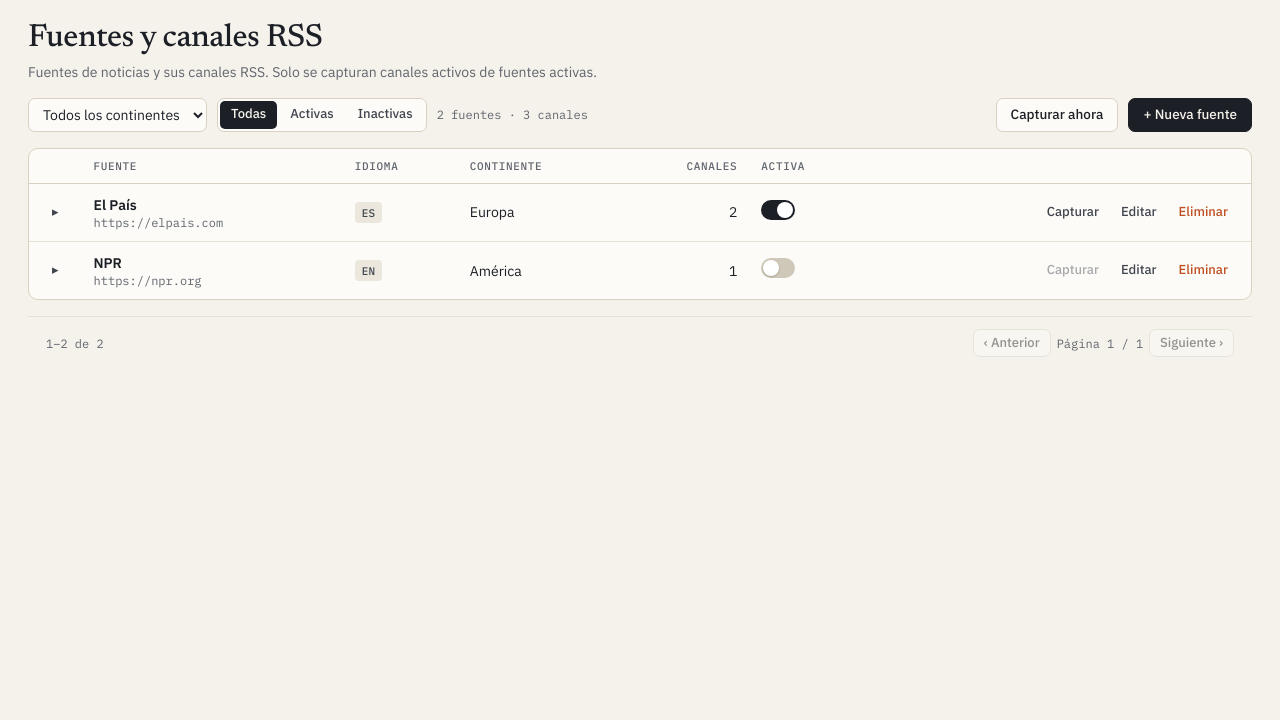
Scenario: SourcesPage › opens delete modal and deactivates channel with DELETE /channels/{id}
Check: the text "El País" is shown, box [94,196,137,214]
Click the button "Eliminar" in the row of "El País". click: [1203, 212]
box: [1168,198,1239,226]
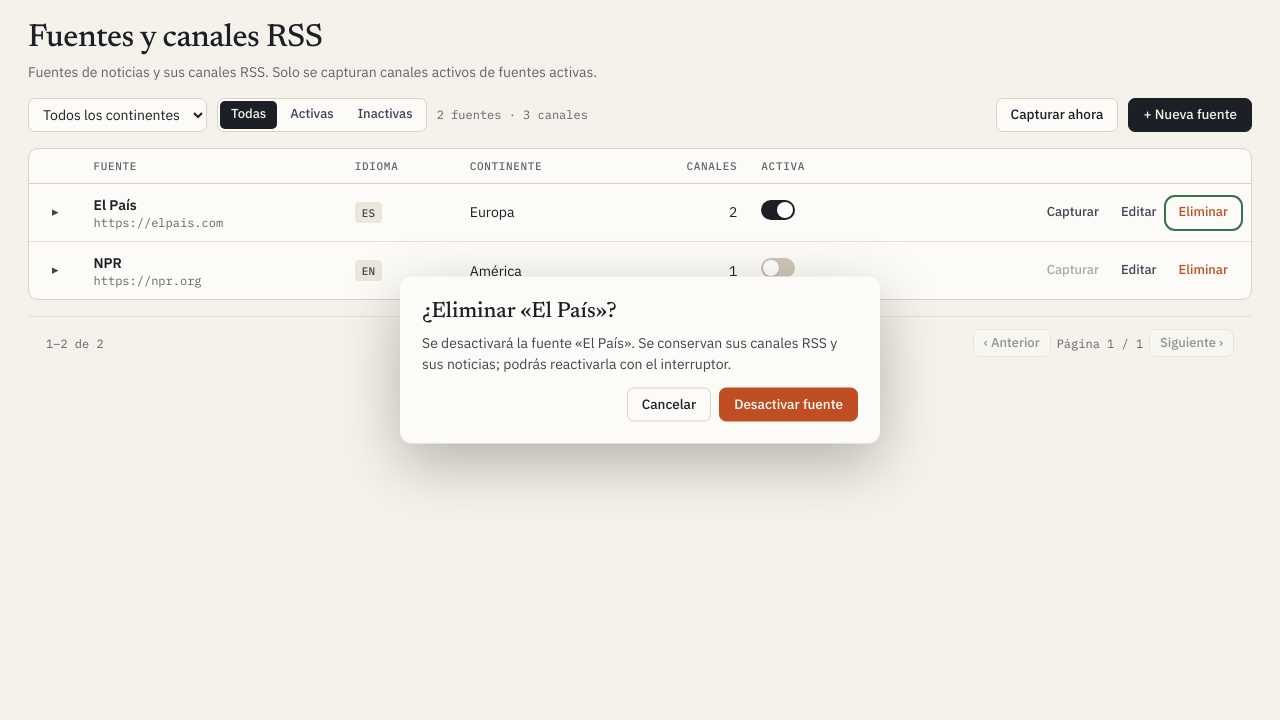
Check: the heading "¿Eliminar «El País»?" is shown, box [422,300,616,322]
Check: the text "Se desactivará la fuente «El País». Se conservan sus canales RSS y sus noticias; podrás reactivarla con el interruptor." is shown, box [422,333,858,374]
Click the button "Desactivar fuente". click: [789, 404]
box: [719,388,858,422]
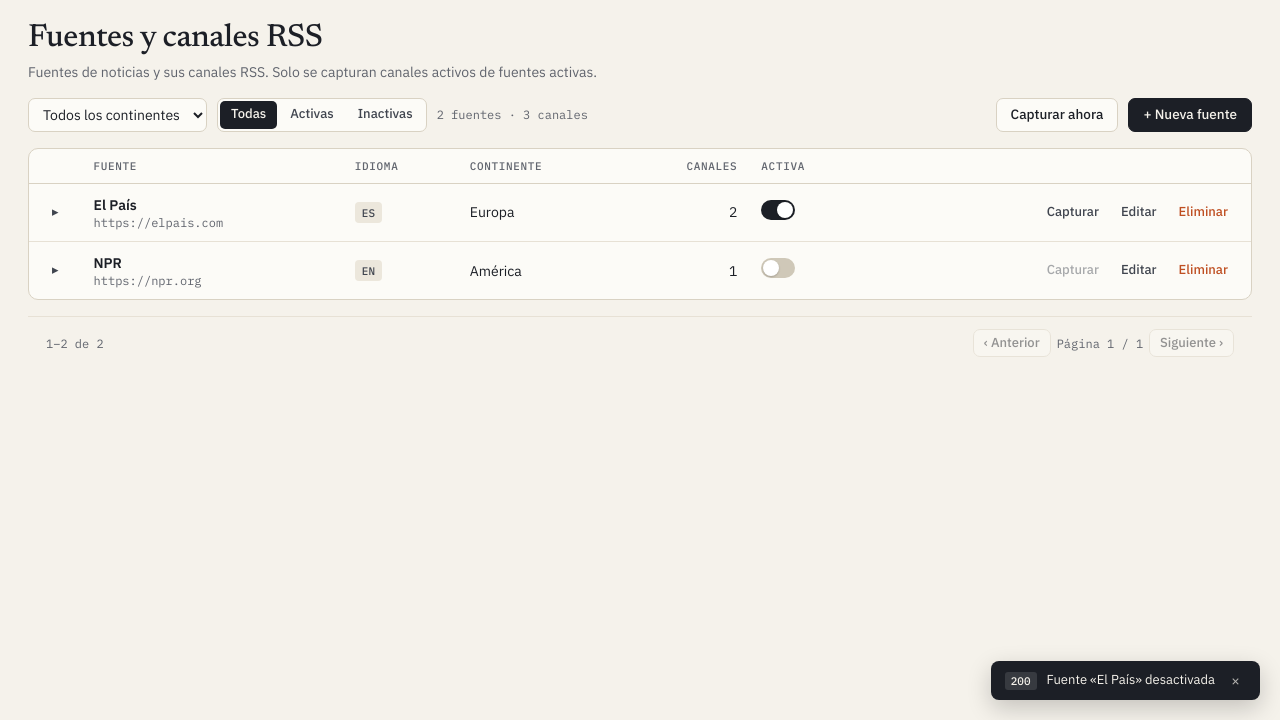
Check: the text "Fuente «El País» desactivada" is shown, box [1046,671,1215,690]
